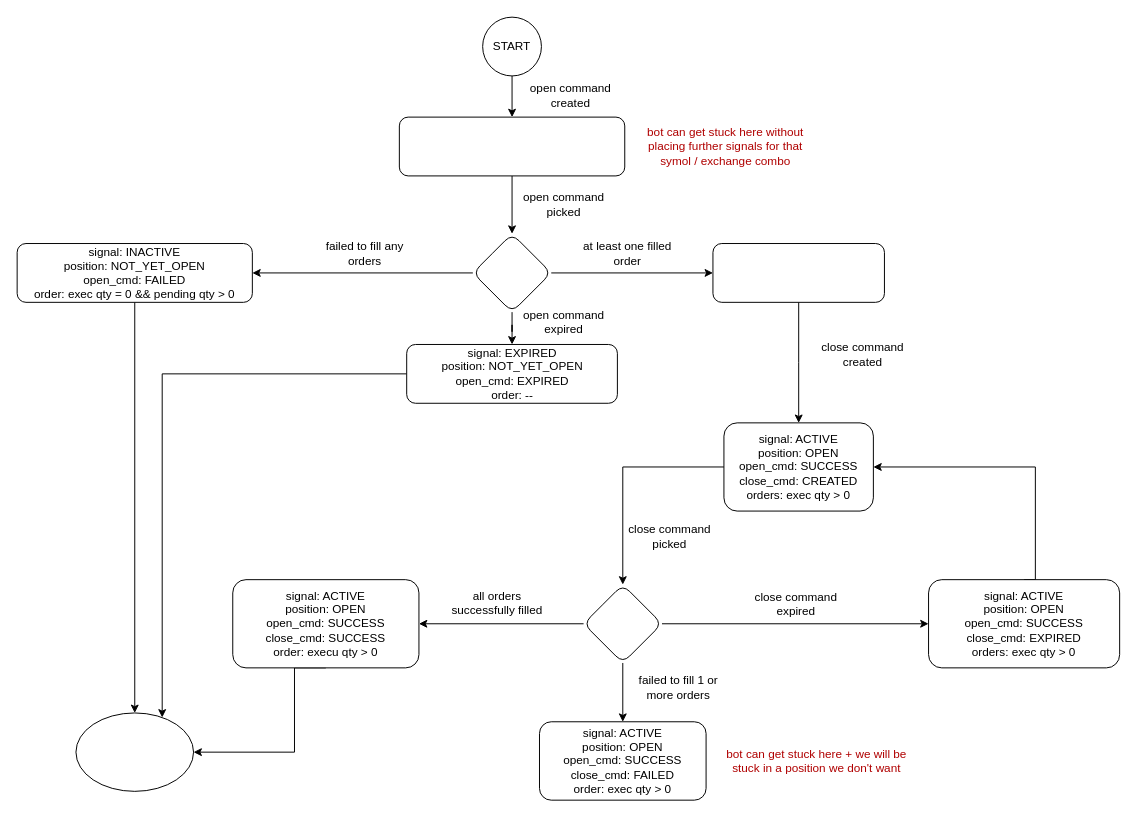
This 1137x817 diagram has some shape labels left out. The shapes that lost their labels are listed below. From the top down, each one's centre as x and y in pixels, then its label:
At point (511, 146): "signal: CREATED position: NOT_YET_OPEN open_cmd: CREATED order: --".
At point (798, 272): "signal: ACTIVE position: OPEN open_cmd: SUCCESS orders: exec qty > 0".
At point (134, 751): "FINISH".
